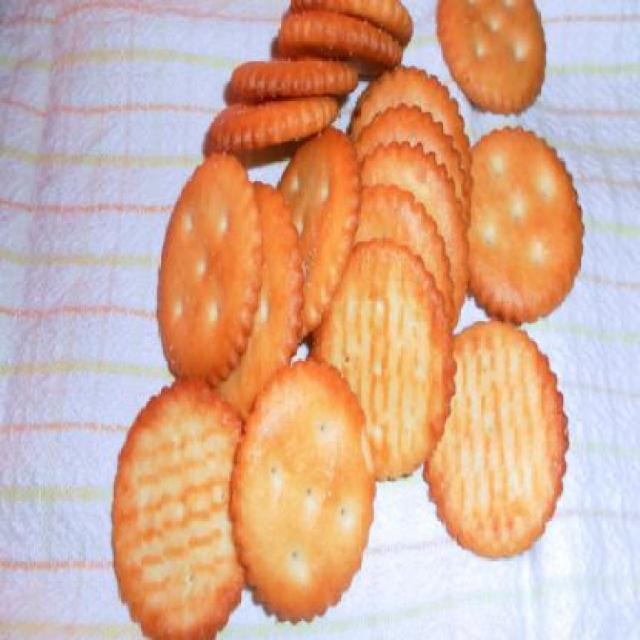Ritz cracker packaged: (113, 21, 589, 638)
